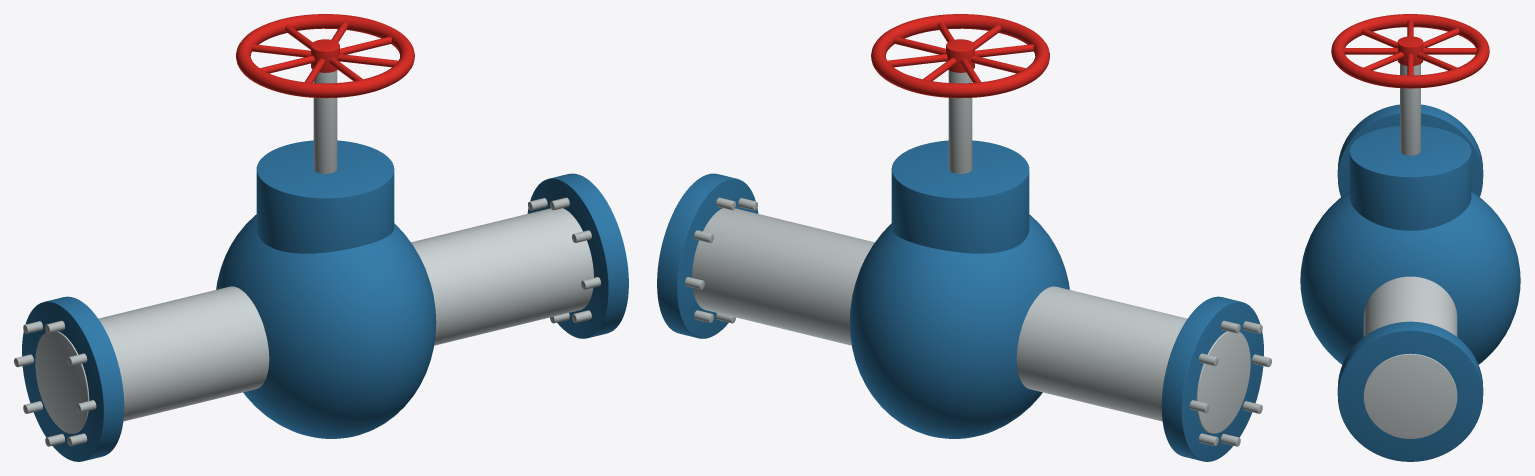
File: flanged_globe_valve.glb
The picture shows the model from 3 angles, left to right: view 1: azimuth 30°, elevation 25°; view 2: azimuth 150°, elevation 25°; view 3: azimuth 270°, elevation 25°; orthographic projection. The views are drawn at different scales.
Visible parts, largest first — view 1: PIPE, GLOBE_BODY, BONNET_NECK, FLANGE_IN, FLANGE_OUT, KIN_HANDWHEEL, KIN_STEM, HANDWHEEL_HUB; view 2: PIPE, GLOBE_BODY, BONNET_NECK, FLANGE_IN, FLANGE_OUT, KIN_HANDWHEEL, KIN_STEM, HANDWHEEL_HUB; view 3: GLOBE_BODY, BONNET_NECK, PIPE, FLANGE_OUT, KIN_HANDWHEEL, FLANGE_IN, KIN_STEM, HANDWHEEL_HUB, SPOKE_90, SPOKE_270, SPOKE_135, SPOKE_225 (+2 smaller).
Boxes of the visible parts, left/top/right/bottom form: PIPE: left=35, top=208, right=593, bottom=433; GLOBE_BODY: left=216, top=214, right=436, bottom=438; BONNET_NECK: left=256, top=140, right=394, bottom=253; FLANGE_IN: left=22, top=296, right=124, bottom=461; FLANGE_OUT: left=527, top=173, right=628, bottom=338; KIN_HANDWHEEL: left=236, top=14, right=414, bottom=98; KIN_STEM: left=313, top=70, right=337, bottom=173; HANDWHEEL_HUB: left=311, top=39, right=339, bottom=72; PIPE: left=692, top=208, right=1250, bottom=433; GLOBE_BODY: left=849, top=214, right=1069, bottom=438; BONNET_NECK: left=891, top=140, right=1029, bottom=253; FLANGE_IN: left=1161, top=296, right=1263, bottom=461; FLANGE_OUT: left=657, top=173, right=758, bottom=338; KIN_HANDWHEEL: left=871, top=14, right=1049, bottom=98; KIN_STEM: left=948, top=70, right=972, bottom=173; HANDWHEEL_HUB: left=946, top=39, right=974, bottom=72; GLOBE_BODY: left=1300, top=191, right=1520, bottom=364; BONNET_NECK: left=1349, top=126, right=1471, bottom=230; PIPE: left=1363, top=276, right=1457, bottom=438; FLANGE_OUT: left=1337, top=321, right=1483, bottom=461; KIN_HANDWHEEL: left=1331, top=14, right=1489, bottom=88; FLANGE_IN: left=1337, top=104, right=1483, bottom=196; KIN_STEM: left=1400, top=64, right=1420, bottom=155; HANDWHEEL_HUB: left=1397, top=36, right=1423, bottom=65; SPOKE_90: left=1423, top=48, right=1477, bottom=54; SPOKE_270: left=1343, top=48, right=1397, bottom=54; SPOKE_135: left=1423, top=28, right=1459, bottom=47; SPOKE_225: left=1361, top=28, right=1397, bottom=47.
Size of the model in its own units: 2.36 by 1.6 by 0.94.
